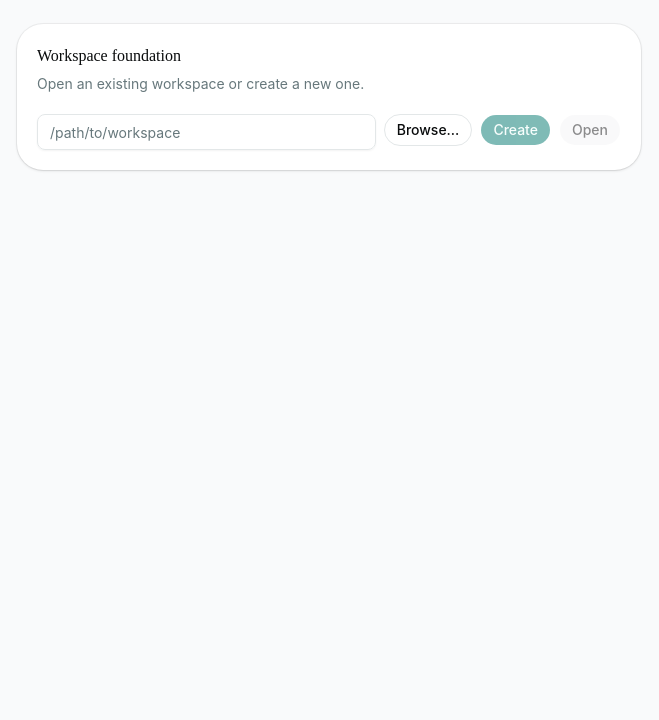
Test: WorkspaceFoundationPanel › renders the catalogue resolved at a viewpoint with layer provenance
Type "/Users/demo/workspaces/demo" into the field named "Workspace folder". click: coordinates (206, 132)
box: x1=37 y1=114 x2=376 y2=150
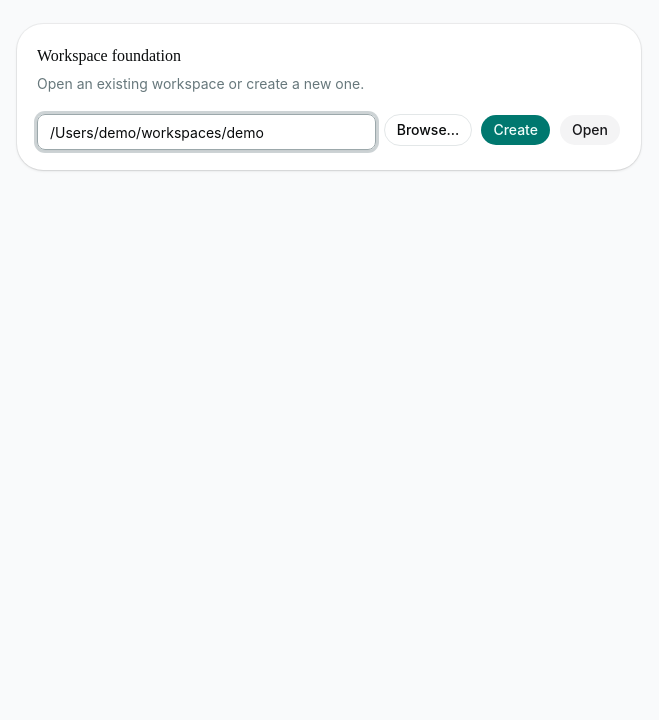
Click the button "Open". click: coordinates (590, 130)
box: x1=559 y1=114 x2=621 y2=146
(page scrolled)
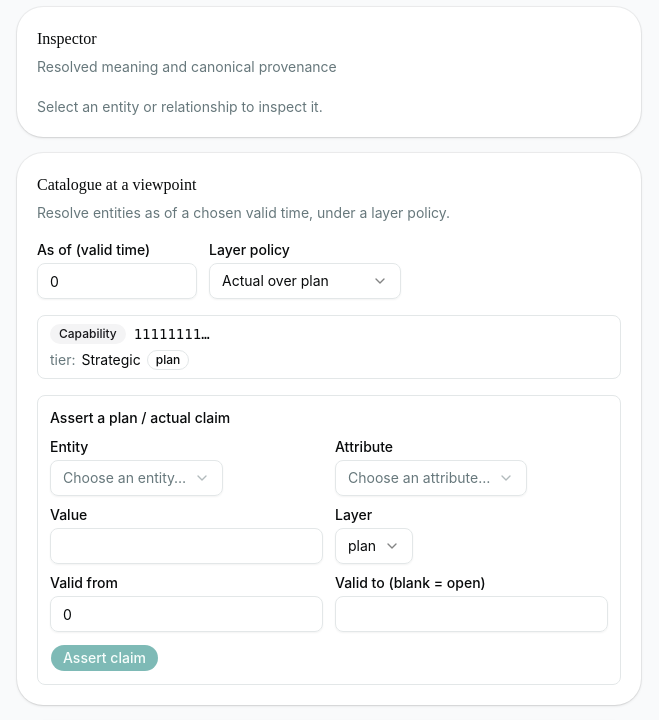
Now the text "Catalogue at a viewpoint" is shown, box x1=37 y1=176 x2=196 y2=193
Now the list named "Catalogue rows" is shown, box x1=37 y1=315 x2=621 y2=379
Now the text "Strategic" is shown, box x1=82 y1=350 x2=141 y2=370
